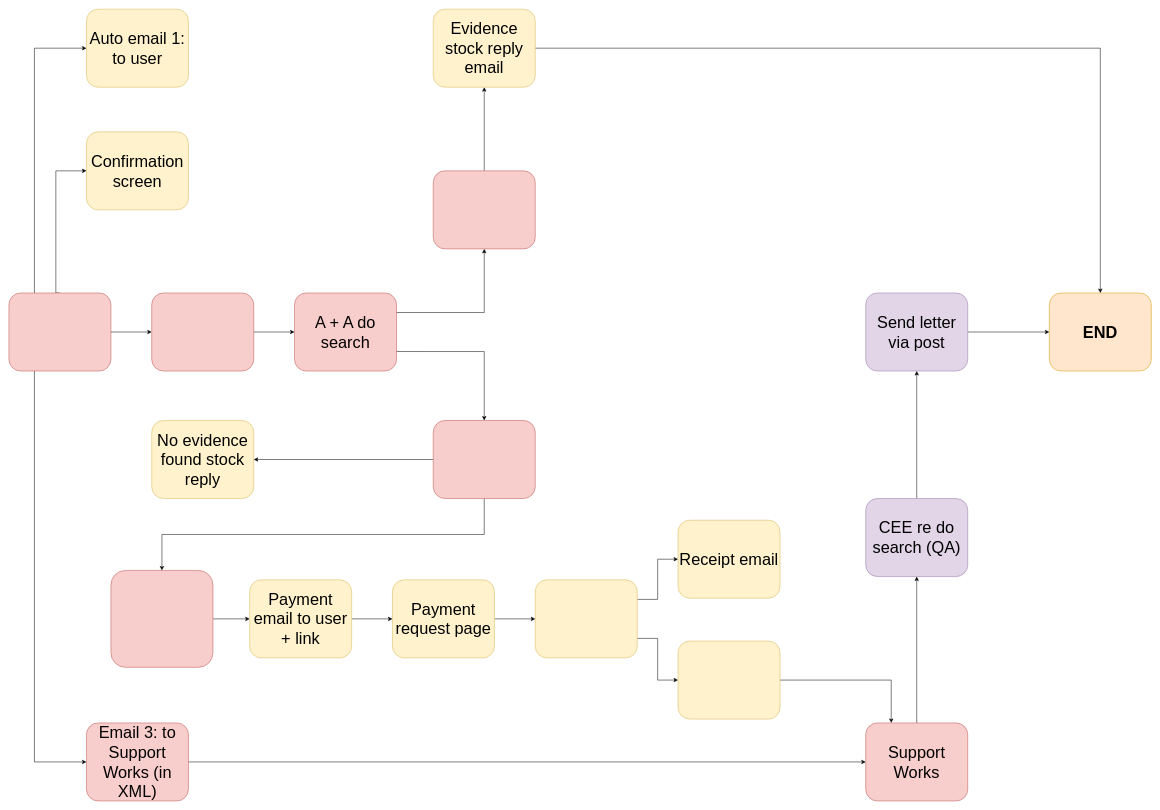
The diagram is 1160 pixels wide and 810 high, and some of its shapes have lost their labels. The centre of each missing label's shape, as x and y in pixels:
"Don't find evidence" goes at [484,459].
"Email 2: to A + A team" goes at [202,331].
"Fill in info service form to generate payment link" goes at [161,618].
"Found evidence" goes at [484,209].
"LNE FORM" goes at [59,331].
"Payment receipt page" goes at [729,680].
"Worldpay (card details)" goes at [586,618].
